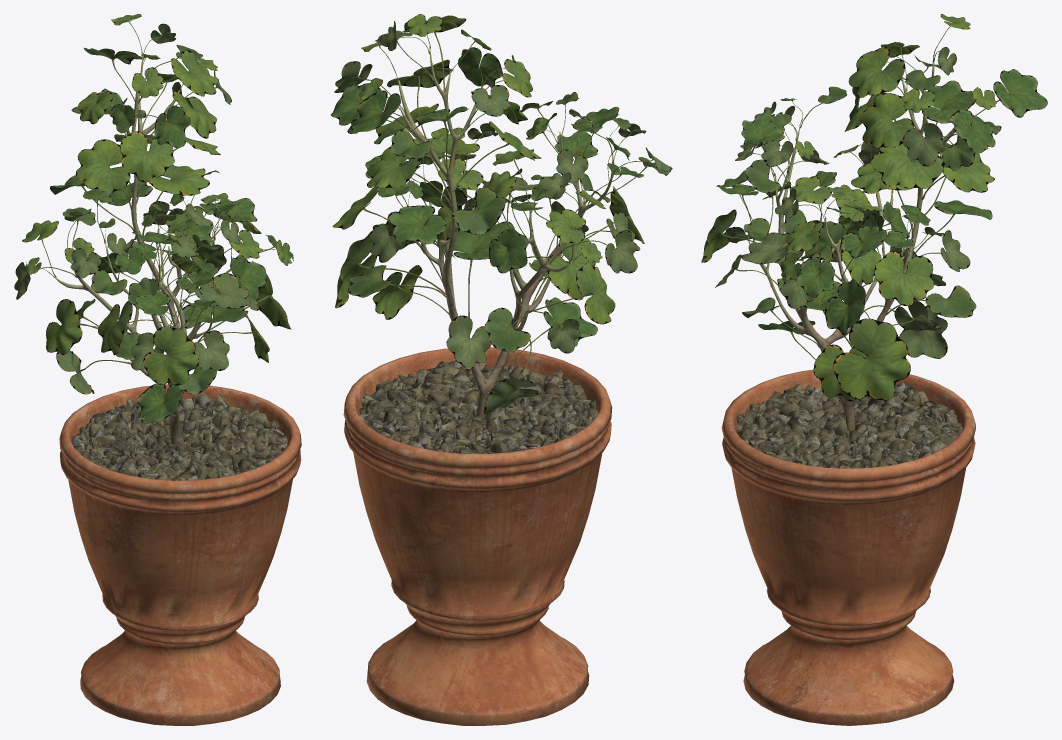
The model's file is potplant_hoog.gltf.
3 views of the same model, side by side, from view 1: azimuth 30°, elevation 25°; view 2: azimuth 150°, elevation 25°; view 3: azimuth 270°, elevation 25° (orthographic). The views are drawn at different scales.
Parts seen in each view (by area): view 1: potted_plant_01_pot, potted_plant_01_leaves, potted_plant_01_pebbles, potted_plant_01_stem; view 2: potted_plant_01_pot, potted_plant_01_leaves, potted_plant_01_pebbles, potted_plant_01_stem; view 3: potted_plant_01_pot, potted_plant_01_leaves, potted_plant_01_pebbles, potted_plant_01_stem.
Part boxes in pixels (x1,y1,x2,y2): potted_plant_01_pot: [59, 384, 301, 725]; potted_plant_01_leaves: [14, 14, 293, 423]; potted_plant_01_pebbles: [71, 392, 287, 480]; potted_plant_01_stem: [54, 54, 244, 444]; potted_plant_01_pot: [343, 347, 612, 725]; potted_plant_01_leaves: [331, 14, 672, 414]; potted_plant_01_pebbles: [359, 360, 597, 453]; potted_plant_01_stem: [398, 49, 613, 422]; potted_plant_01_pot: [721, 369, 975, 725]; potted_plant_01_leaves: [701, 14, 1047, 401]; potted_plant_01_pebbles: [736, 382, 962, 468]; potted_plant_01_stem: [752, 55, 967, 432].
Size of the model in its own units: 0.5874 by 1.34 by 0.6336.
2 materials, 2 textured.
